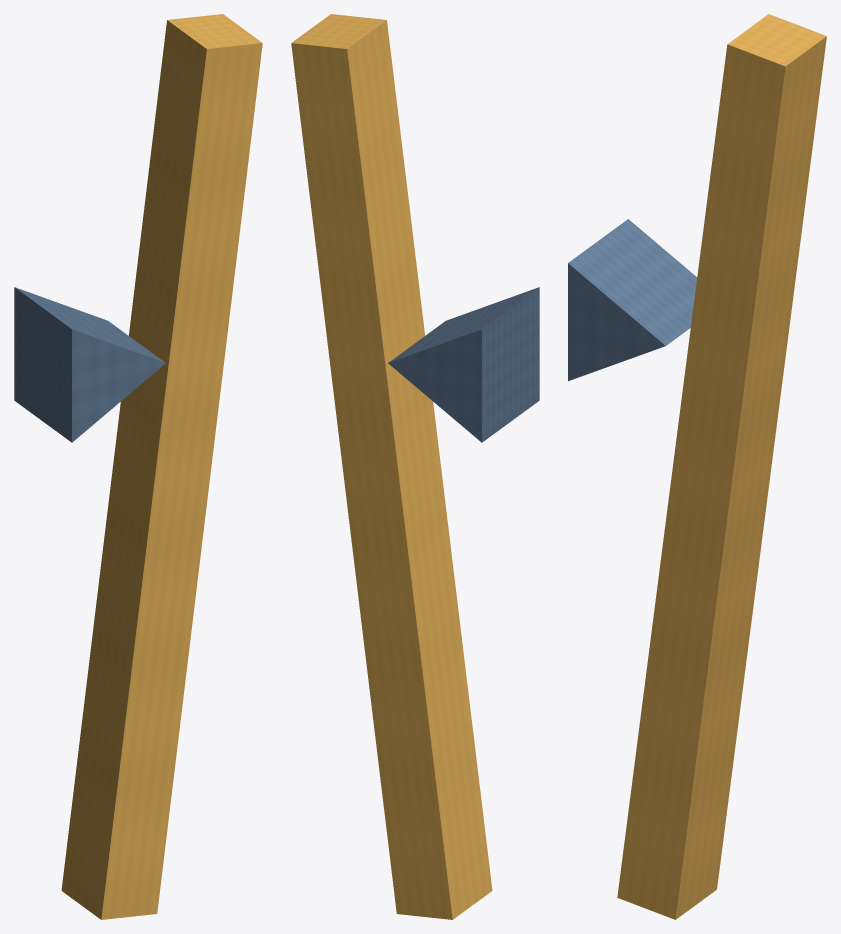
File: atlas100-s057-a05.lod2.glb
3 renders of one model, left to right at view 1: azimuth 30°, elevation 25°; view 2: azimuth 150°, elevation 25°; view 3: azimuth 330°, elevation 25°, orthographic. The views are drawn at different scales.
Parts seen in each view (by area): view 1: atlas100-s057-a05:part-001, atlas100-s057-a05:part-002; view 2: atlas100-s057-a05:part-001, atlas100-s057-a05:part-002; view 3: atlas100-s057-a05:part-001, atlas100-s057-a05:part-002.
Boxes of the visible parts, x1=… form: atlas100-s057-a05:part-001: x1=61, y1=14, x2=262, y2=919; atlas100-s057-a05:part-002: x1=14, y1=287, x2=165, y2=442; atlas100-s057-a05:part-001: x1=291, y1=14, x2=492, y2=919; atlas100-s057-a05:part-002: x1=388, y1=287, x2=539, y2=442; atlas100-s057-a05:part-001: x1=617, y1=14, x2=826, y2=919; atlas100-s057-a05:part-002: x1=568, y1=219, x2=697, y2=381.
Bounding box in the file's own units: 0.1741 × 0.7102 × 0.0874.
Materials: 2 (2 with a texture image).
